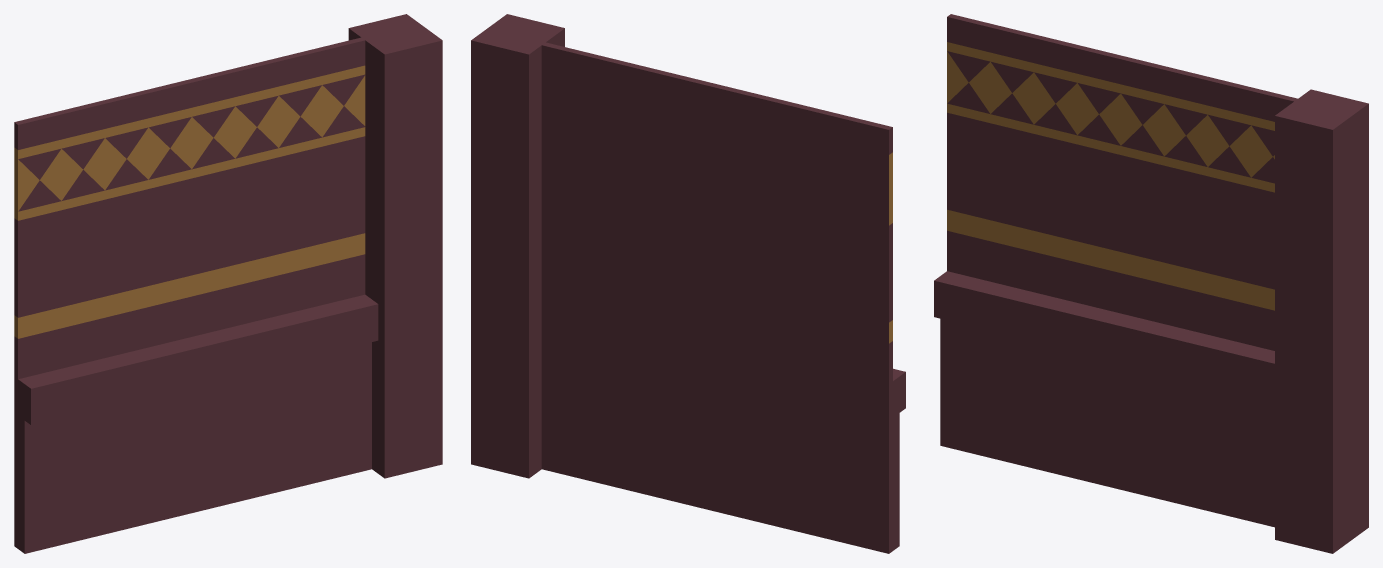
Rendered from empire-wall-l-3x3m-rim-empire.glb.
The picture shows the model from 3 angles, left to right: view 1: azimuth 30°, elevation 25°; view 2: azimuth 150°, elevation 25°; view 3: azimuth 330°, elevation 25°; orthographic projection.
Visible parts, largest first — view 1: SM_Wall_L_3x3m_Rim_Empire; view 2: SM_Wall_L_3x3m_Rim_Empire; view 3: SM_Wall_L_3x3m_Rim_Empire.
Part boxes in pixels (box(x1,y1,x2,y2)): SM_Wall_L_3x3m_Rim_Empire: box(14, 14, 442, 553); SM_Wall_L_3x3m_Rim_Empire: box(471, 14, 905, 553); SM_Wall_L_3x3m_Rim_Empire: box(934, 14, 1368, 553).
Bounding box in the file's own units: 3 × 3 × 0.4626.
